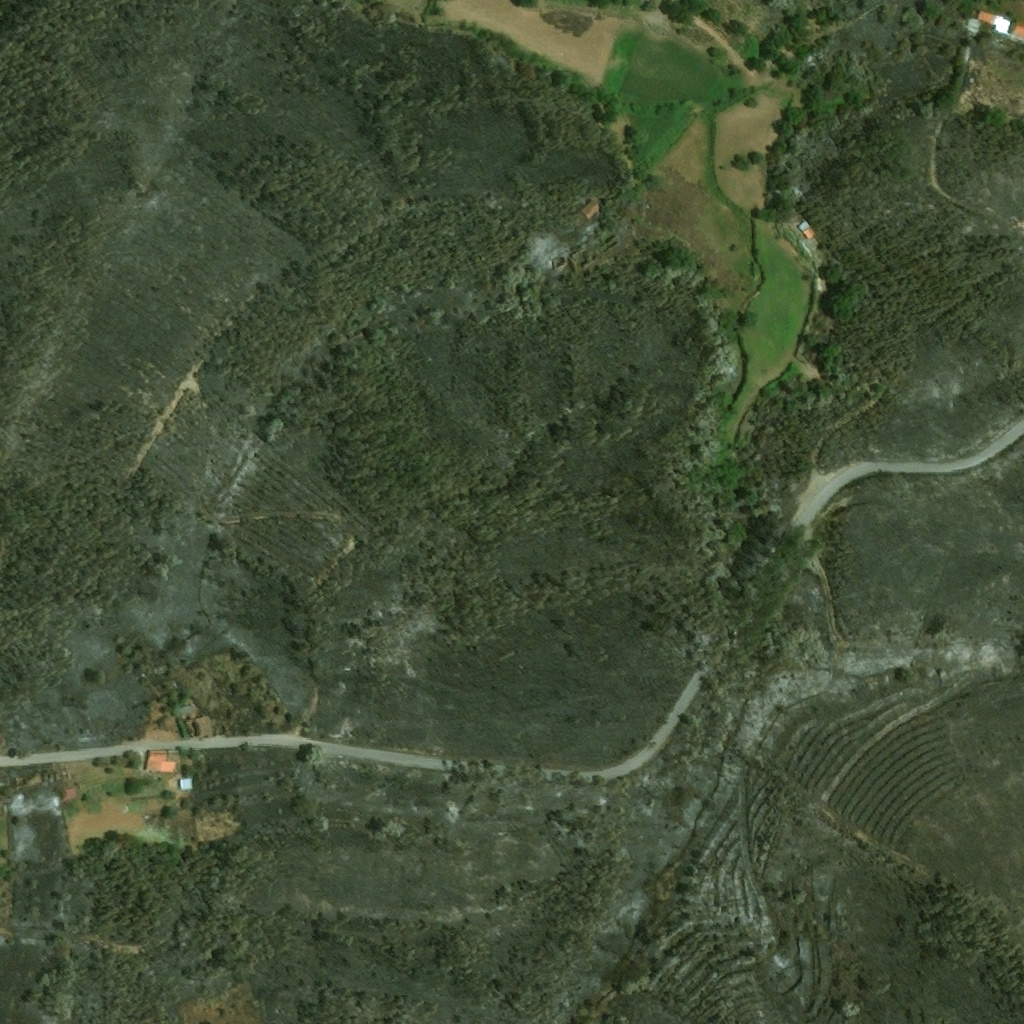0 no-damage: (967, 7, 1012, 36), (577, 195, 606, 225), (142, 750, 175, 773), (795, 219, 817, 242), (1010, 19, 1023, 40), (176, 776, 193, 791), (61, 787, 76, 802)
2 major-damage: (174, 703, 217, 738)
4 un-classified: (804, 478, 819, 491), (855, 676, 873, 683)
